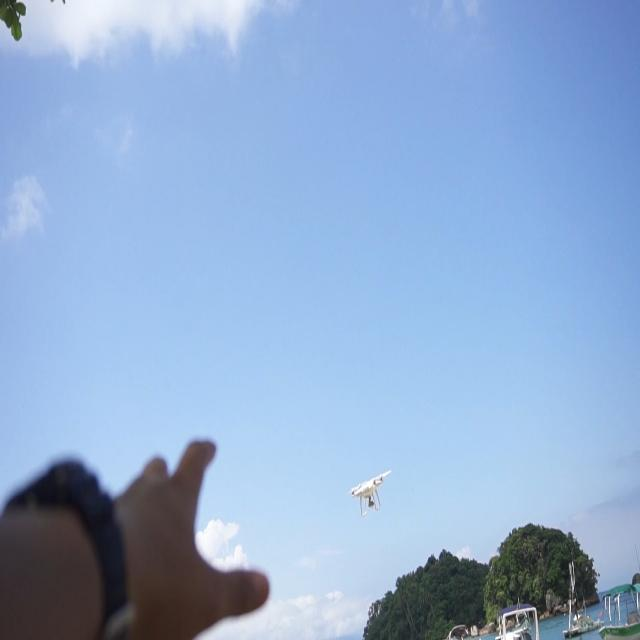Drone: (349, 471, 392, 516)
